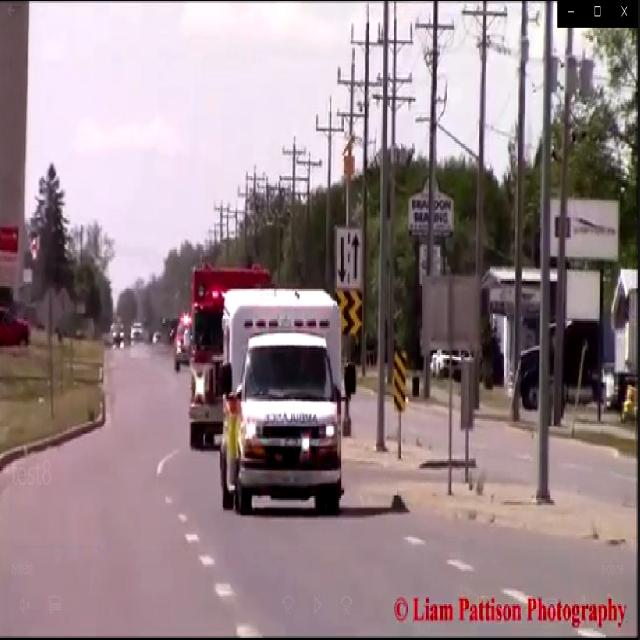emergency: (216, 288, 351, 527), (186, 259, 279, 457), (170, 296, 199, 376)
